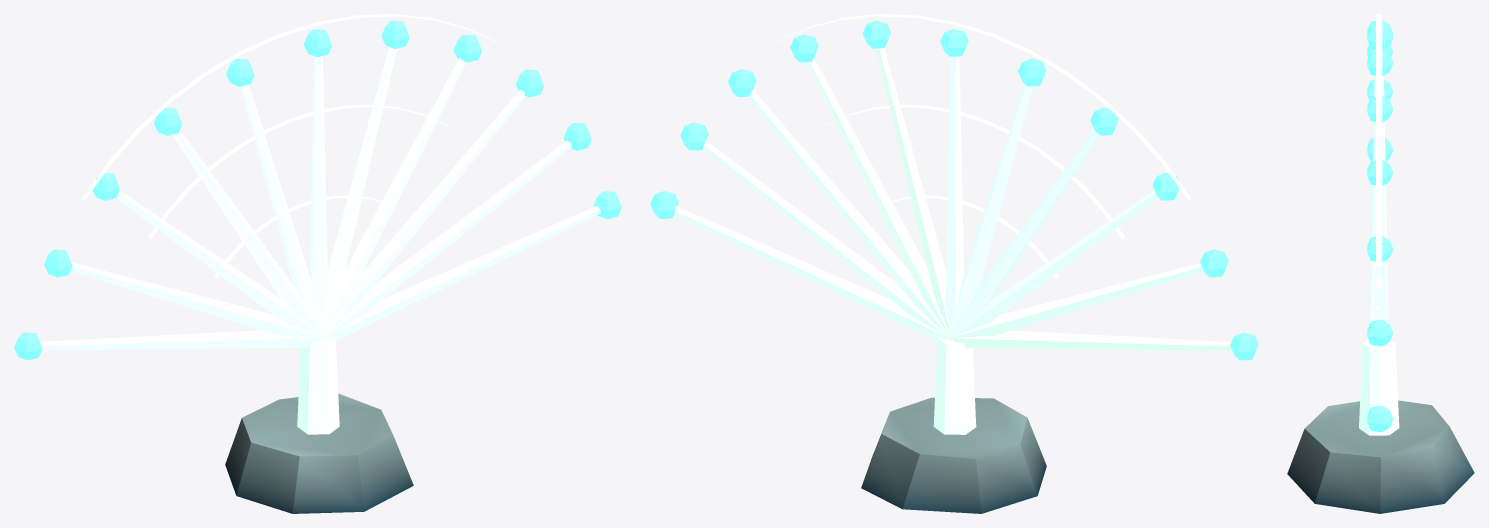
Rendered from prop_coral_fan.glb.
3 views of the same model, side by side, from view 1: azimuth 30°, elevation 25°; view 2: azimuth 150°, elevation 25°; view 3: azimuth 270°, elevation 25° (orthographic). The views are drawn at different scales.
Visible parts, largest first — view 1: prop_coral_fan_bio, prop_coral_fan_stone, prop_coral_fan_glow; view 2: prop_coral_fan_bio, prop_coral_fan_stone, prop_coral_fan_glow; view 3: prop_coral_fan_stone, prop_coral_fan_bio, prop_coral_fan_glow.
Part boxes in pixels (bbox=[...]): prop_coral_fan_bio: bbox=[40, 14, 600, 434]; prop_coral_fan_stone: bbox=[225, 393, 413, 513]; prop_coral_fan_glow: bbox=[14, 21, 621, 360]; prop_coral_fan_bio: bbox=[674, 14, 1231, 434]; prop_coral_fan_stone: bbox=[861, 397, 1046, 513]; prop_coral_fan_glow: bbox=[650, 20, 1258, 360]; prop_coral_fan_stone: bbox=[1287, 400, 1474, 513]; prop_coral_fan_bio: bbox=[1359, 14, 1399, 435]; prop_coral_fan_glow: bbox=[1367, 20, 1393, 432].
Size of the model in its own units: 3.22 by 2.31 by 0.9105.
